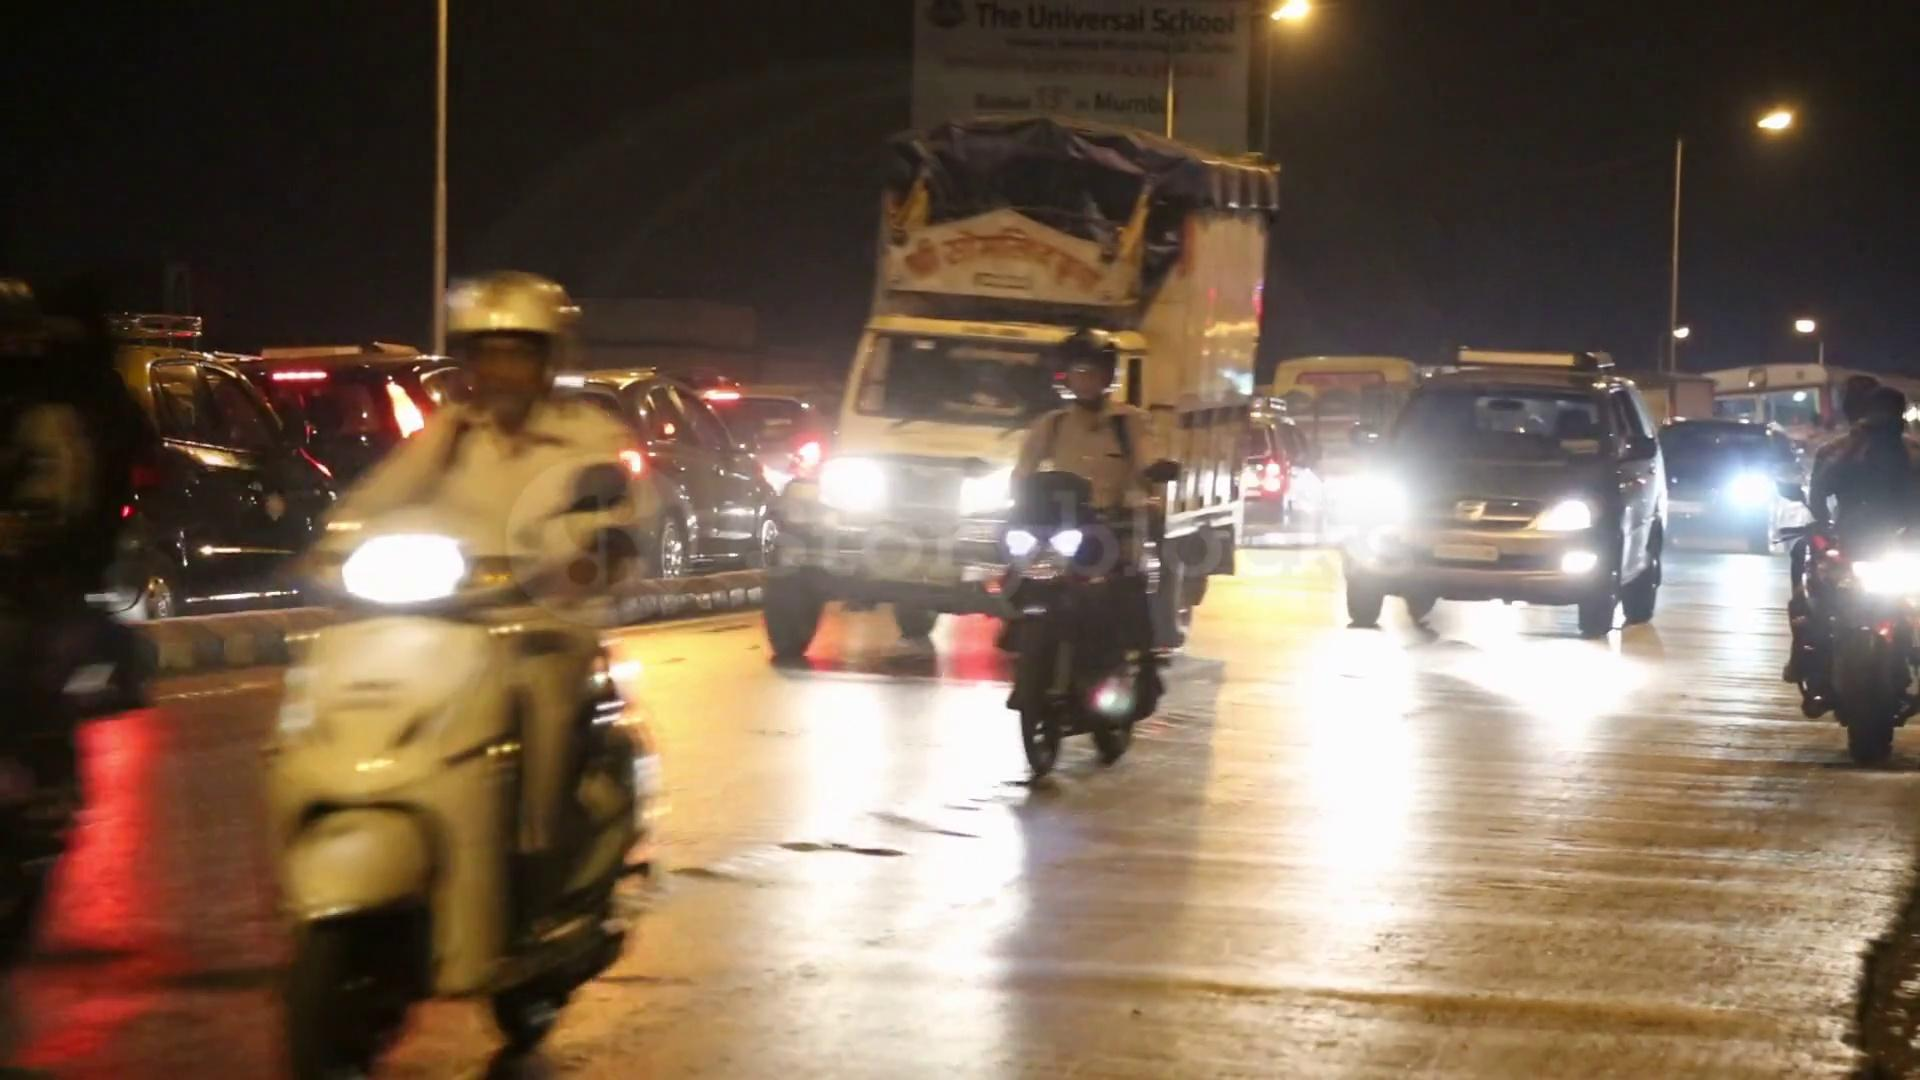rider: (234, 207, 671, 1051), (995, 331, 1186, 732), (1811, 363, 1920, 763)
with_helmate: (430, 263, 591, 429), (1053, 340, 1130, 404)
